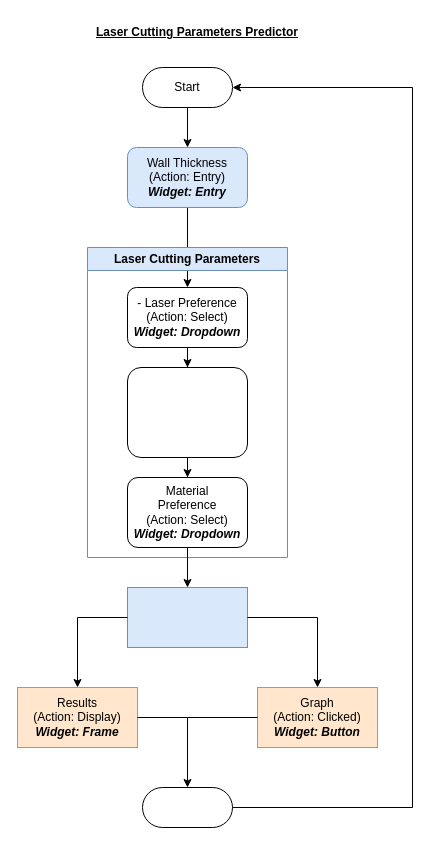
Some shapes in this 438 by 845 pixel diagram are drawn without their labels. The centre of each missing label's shape, as x and y in pixels:
- Power (Watts) - Pulse Power(%) - Kerf Size (Action: Entry) Widget: Entry: point 187,412
Calculate (Action: Clicked) Widget: Button: point 187,617
End: point 187,807
